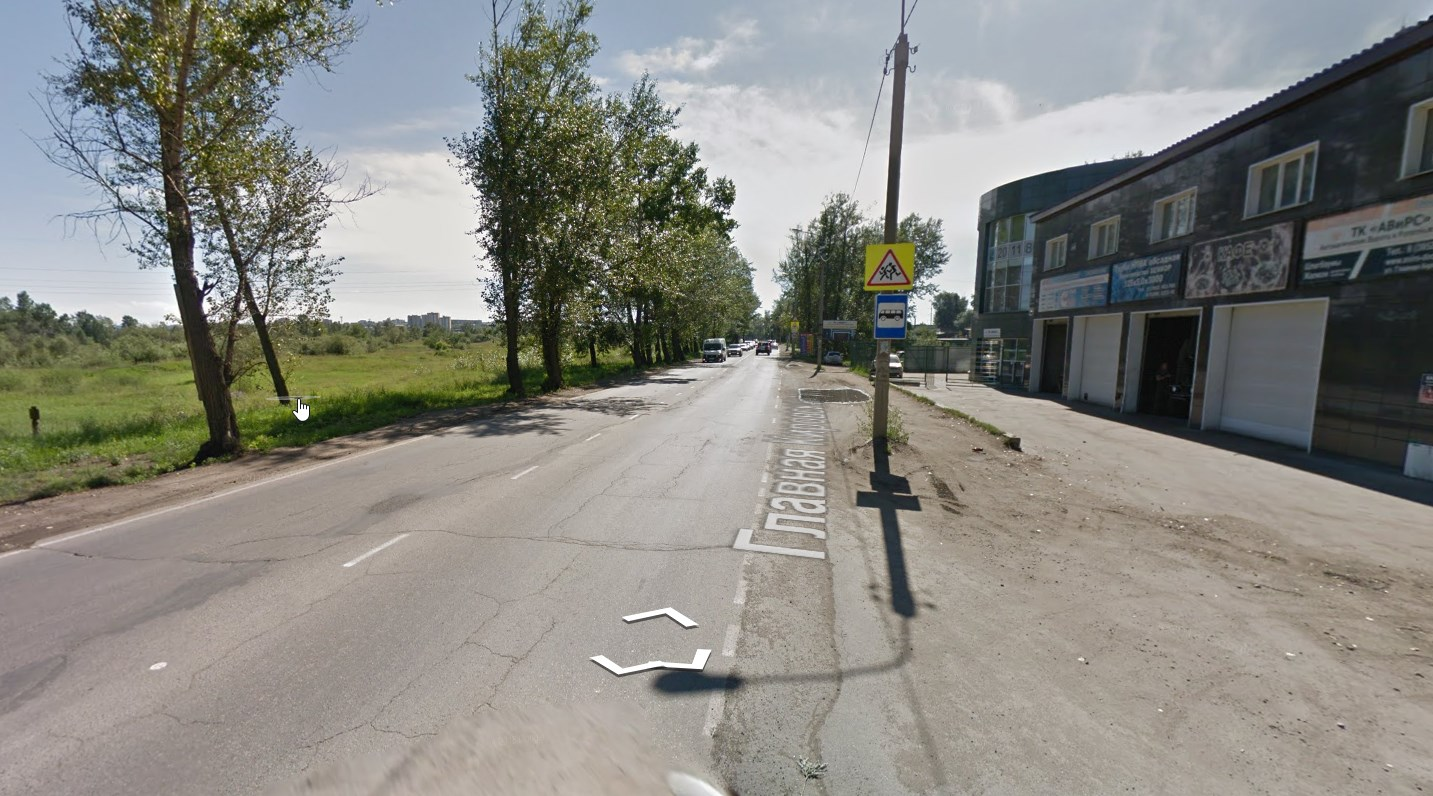sign: (863, 241, 915, 292), (874, 292, 909, 340)
